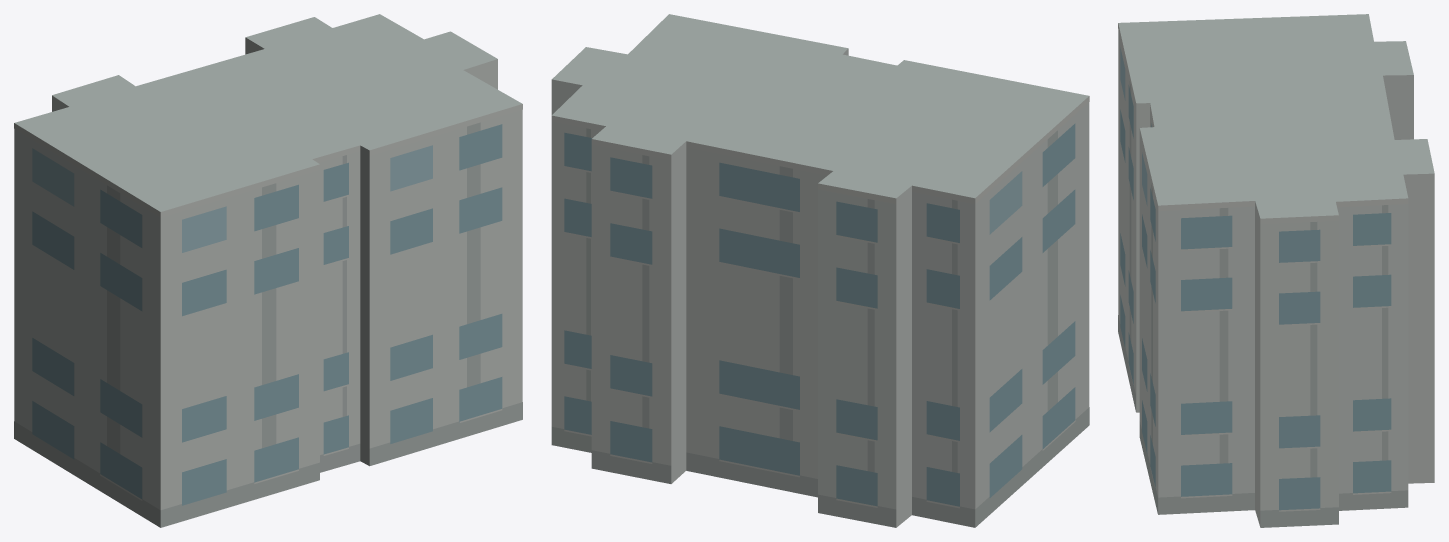
File: survey-upis-32759622.glb
3 views of the same model, side by side, from view 1: azimuth 30°, elevation 25°; view 2: azimuth 150°, elevation 25°; view 3: azimuth 270°, elevation 25° (orthographic). The views are drawn at different scales.
Parts seen in each view (by area): view 1: survey-upis-32759622.tmp; view 2: survey-upis-32759622.tmp; view 3: survey-upis-32759622.tmp.
Part boxes in pixels (box(x1,y1,x2,y2)): survey-upis-32759622.tmp: box(14, 14, 522, 527); survey-upis-32759622.tmp: box(551, 14, 1089, 527); survey-upis-32759622.tmp: box(1118, 14, 1434, 527).
Size of the model in its own units: 19.03 by 13.4 by 12.44.
